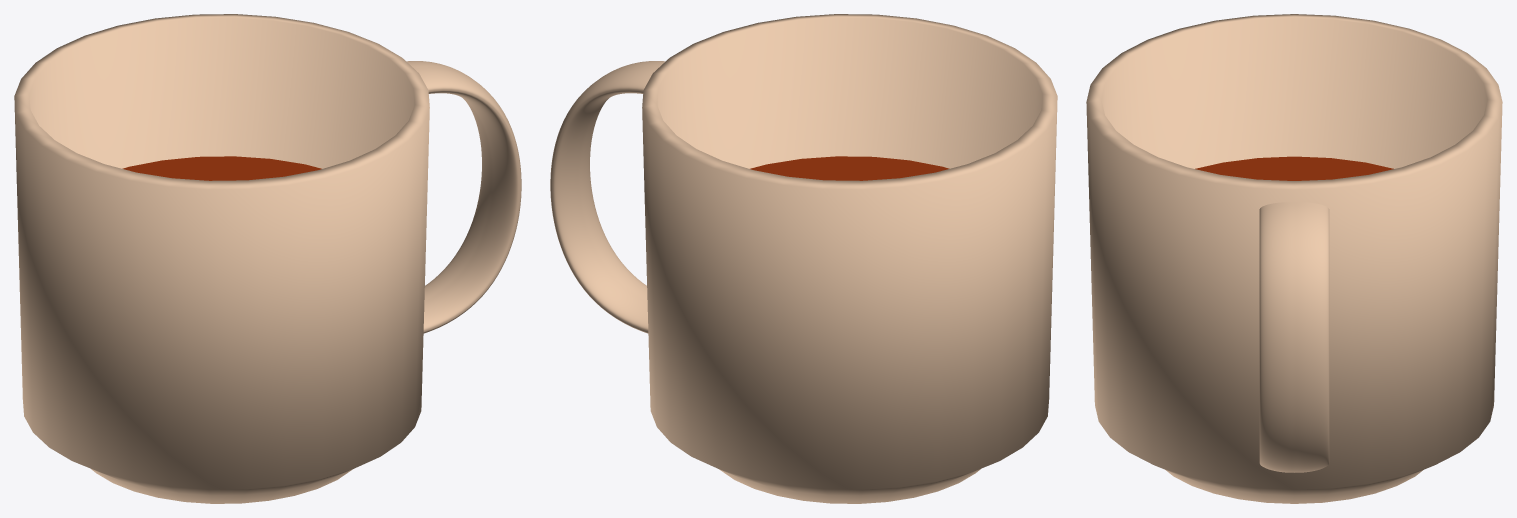
File: Coffee Cup.fbx
3 views of the same model, side by side, from view 1: azimuth 30°, elevation 25°; view 2: azimuth 150°, elevation 25°; view 3: azimuth 270°, elevation 25° (orthographic).
Parts seen in each view (by area): view 1: Cylinder, NurbsPath, Circle; view 2: Cylinder, NurbsPath, Circle; view 3: Cylinder, NurbsPath, Circle.
Part boxes in pixels (x1,y1,x2,y2): Cylinder: (14,14,429,503); NurbsPath: (406,61,521,333); Circle: (122,156,321,180); Cylinder: (642,14,1057,503); NurbsPath: (550,61,665,333); Circle: (750,156,949,180); Cylinder: (1086,14,1502,503); NurbsPath: (1259,202,1329,472); Circle: (1195,156,1393,180).
Size of the model in its own units: 255 by 178 by 196.
